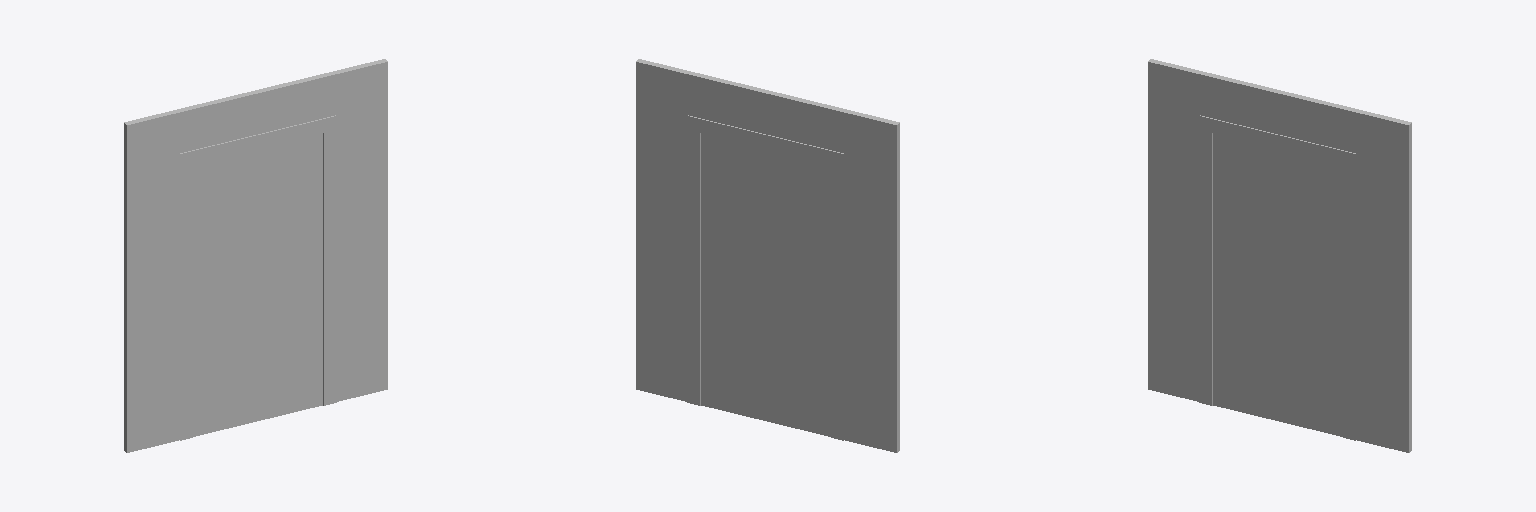
Rendered from Double_Sided_Doorway.obj.
3 renders of one model, left to right at view 1: azimuth 30°, elevation 25°; view 2: azimuth 150°, elevation 25°; view 3: azimuth 330°, elevation 25°, orthographic.
Parts seen in each view (by area): view 1: doorway0_Cube.001; view 2: doorway0_Cube.001; view 3: doorway0_Cube.001.
Part boxes in pixels (x1,y1,x2,y2): doorway0_Cube.001: (124,59,387,452); doorway0_Cube.001: (636,59,899,452); doorway0_Cube.001: (1148,59,1411,452).
Size of the model in its own units: 2 by 2.4 by 0.07.